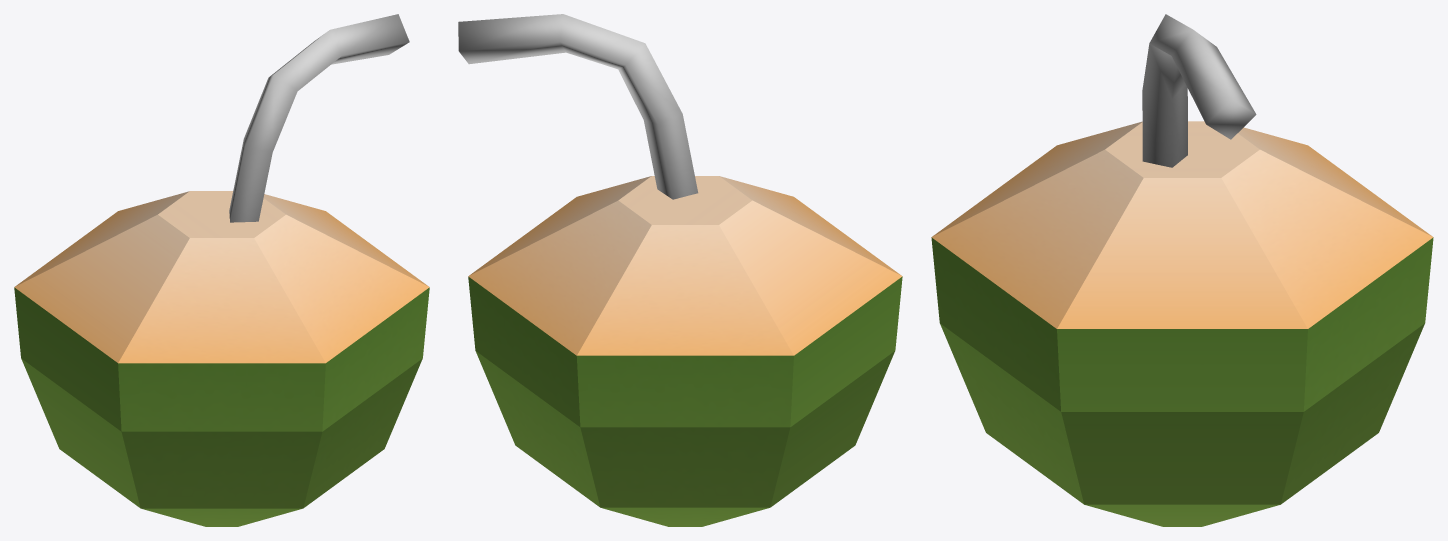
The model's file is cocoBebida.fbx.
3 views of the same model, side by side, from view 1: azimuth 30°, elevation 25°; view 2: azimuth 150°, elevation 25°; view 3: azimuth 270°, elevation 25° (orthographic). The views are drawn at different scales.
Visible parts, largest first — view 1: cocoBebida; view 2: cocoBebida; view 3: cocoBebida.
Boxes of the visible parts, left/top/right/bottom form: cocoBebida: left=14, top=14, right=429, bottom=526; cocoBebida: left=458, top=14, right=902, bottom=526; cocoBebida: left=931, top=14, right=1433, bottom=526.
Size of the model in its own units: 44.59 by 54.83 by 45.41.
Materials: 1 (1 with a texture image).
